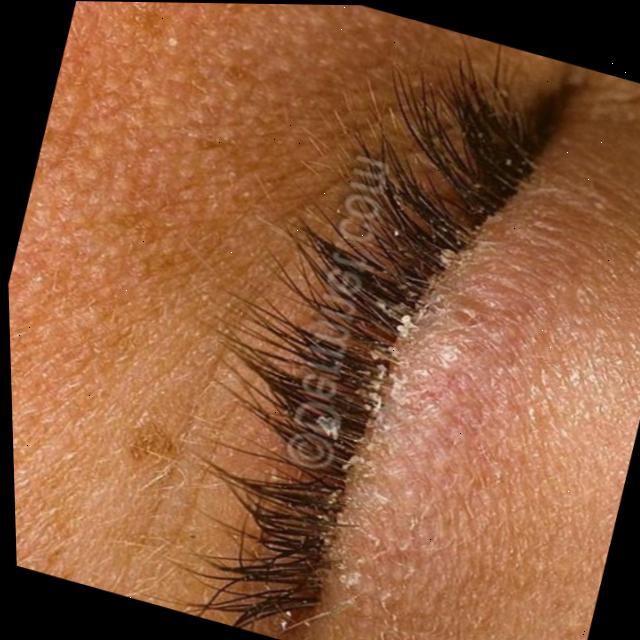Eczema: (295, 133, 604, 640)
